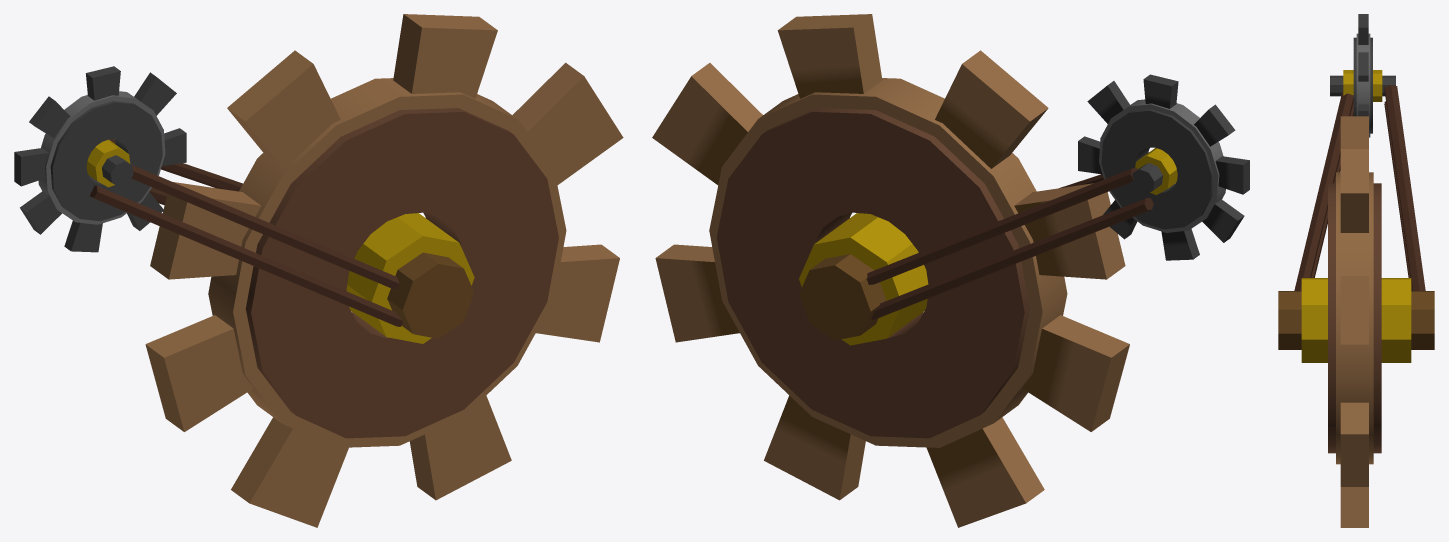
Rendered from tandwiel_02.fbx.
3 views of the same model, side by side, from view 1: azimuth 30°, elevation 25°; view 2: azimuth 150°, elevation 25°; view 3: azimuth 270°, elevation 25° (orthographic). The views are drawn at different scales.
Visible parts, largest first — view 1: pCylinder16; view 2: pCylinder16; view 3: pCylinder16.
Part boxes in pixels (x1=…): pCylinder16: x1=14, y1=14, x2=623, y2=527; pCylinder16: x1=652, y1=14, x2=1249, y2=527; pCylinder16: x1=1278, y1=14, x2=1434, y2=527.
Size of the model in its own units: 6.03 by 4.82 by 1.82.
